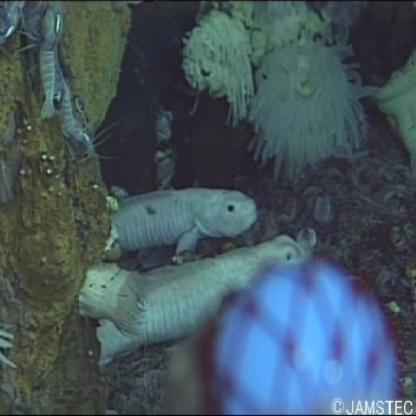Bio: (62, 182, 324, 372), (240, 32, 371, 179), (1, 2, 110, 163)
